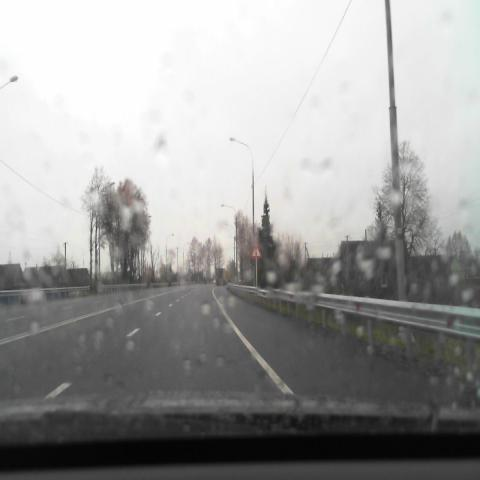1_8: (250, 239, 262, 259)
